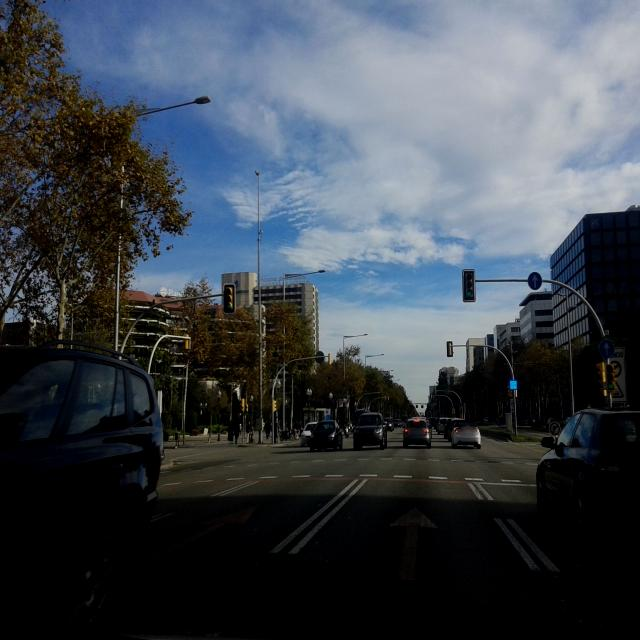car: (0, 338, 165, 635), (535, 405, 640, 552), (352, 410, 388, 450), (310, 419, 344, 452), (402, 416, 432, 448), (451, 420, 482, 449), (443, 417, 464, 441), (300, 421, 318, 447), (436, 417, 449, 433), (383, 418, 394, 432), (393, 418, 401, 427)
